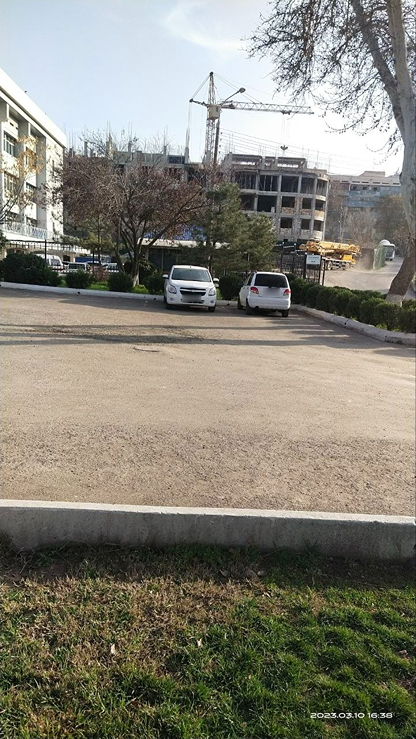car: (161, 256, 214, 309), (235, 270, 293, 315)
tree: (251, 0, 416, 210), (64, 145, 209, 270)
